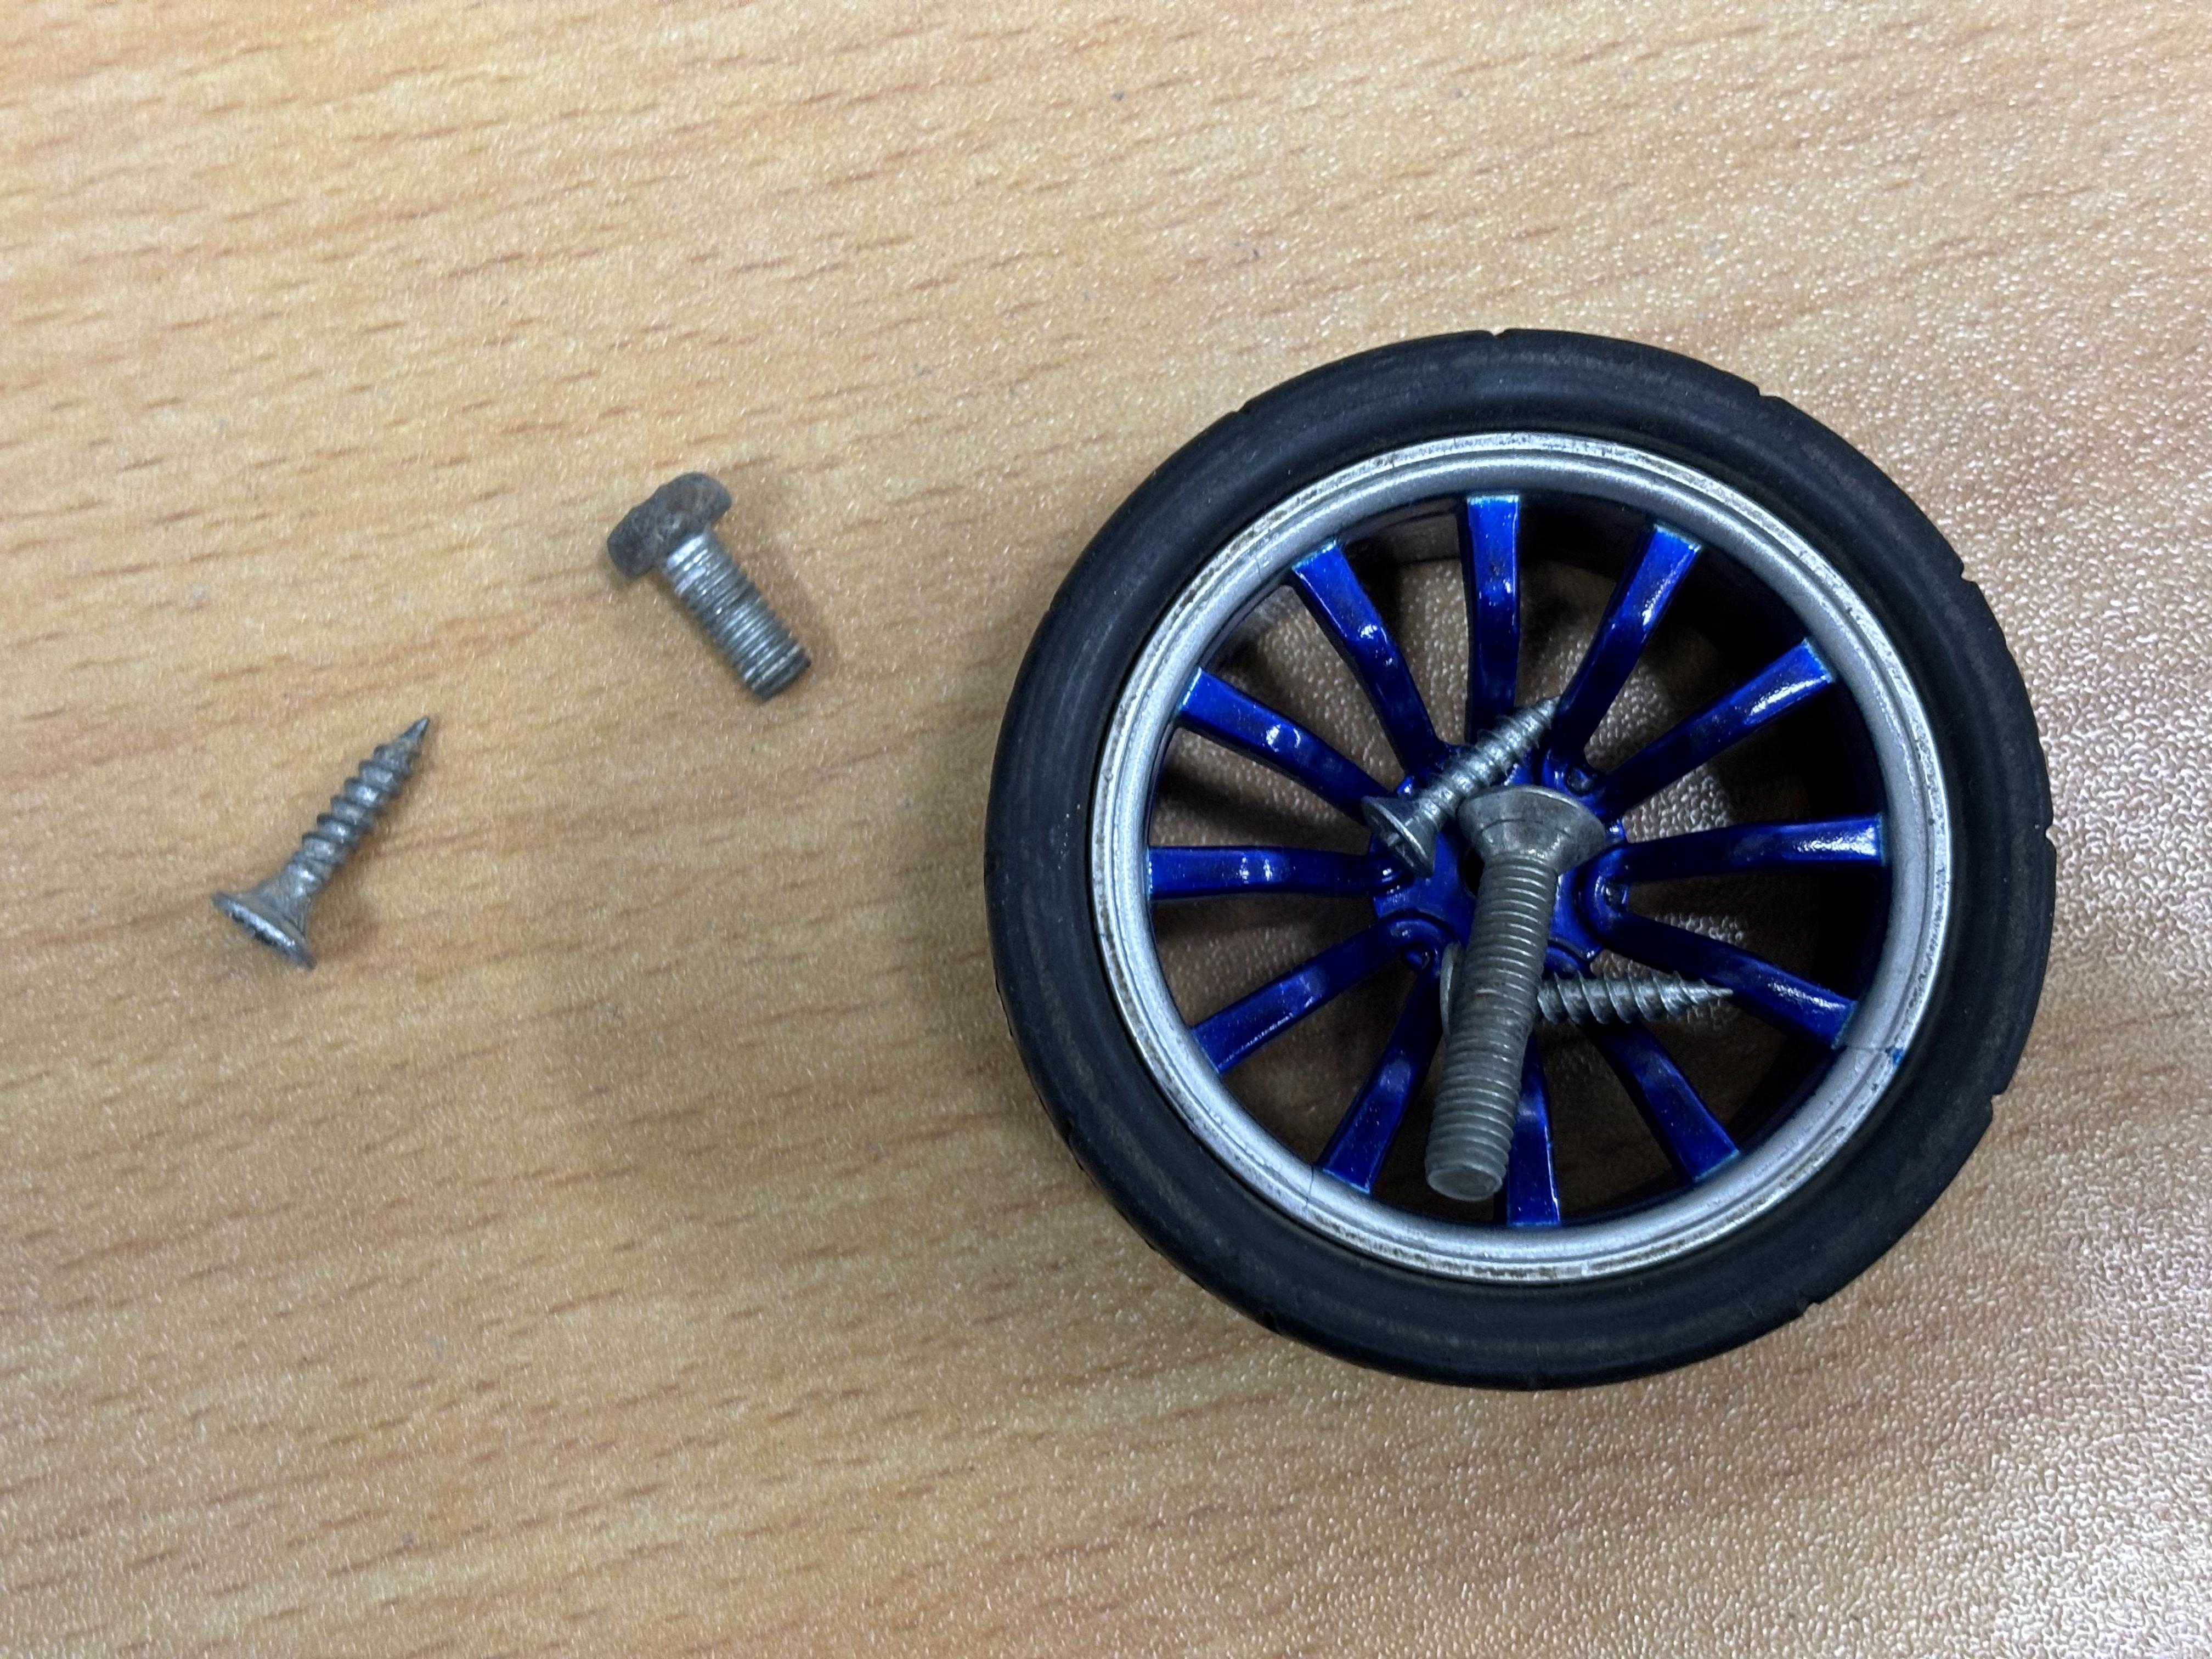Round head screw: (1423, 782, 1608, 1206), (211, 718, 432, 972), (608, 471, 812, 702), (1355, 695, 1564, 882), (1435, 938, 1737, 1044)
